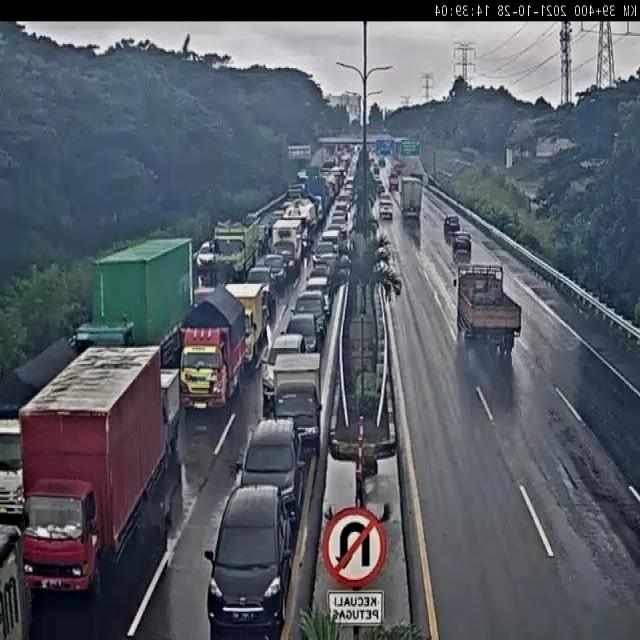Car: (205, 484, 296, 637), (234, 418, 303, 520), (262, 332, 304, 408), (280, 313, 321, 357), (291, 292, 328, 336), (245, 265, 277, 310), (302, 274, 334, 314), (263, 254, 288, 291), (260, 212, 284, 250), (310, 242, 340, 266), (306, 264, 332, 288), (319, 228, 342, 254), (452, 233, 472, 255), (330, 214, 348, 237), (444, 215, 460, 235), (379, 199, 393, 220), (380, 192, 390, 202), (374, 175, 384, 184), (376, 184, 384, 194)
Truck: (17, 347, 168, 603), (70, 233, 196, 364), (0, 339, 84, 523), (178, 283, 244, 408), (458, 262, 523, 364), (270, 352, 324, 453), (218, 280, 266, 370), (210, 214, 260, 282), (0, 517, 27, 640), (0, 423, 26, 529), (270, 214, 308, 278), (160, 363, 182, 445), (284, 197, 318, 247), (304, 174, 328, 223), (399, 174, 424, 219), (286, 180, 307, 201), (388, 172, 399, 191), (306, 164, 319, 179), (392, 159, 402, 173), (378, 153, 387, 167)
